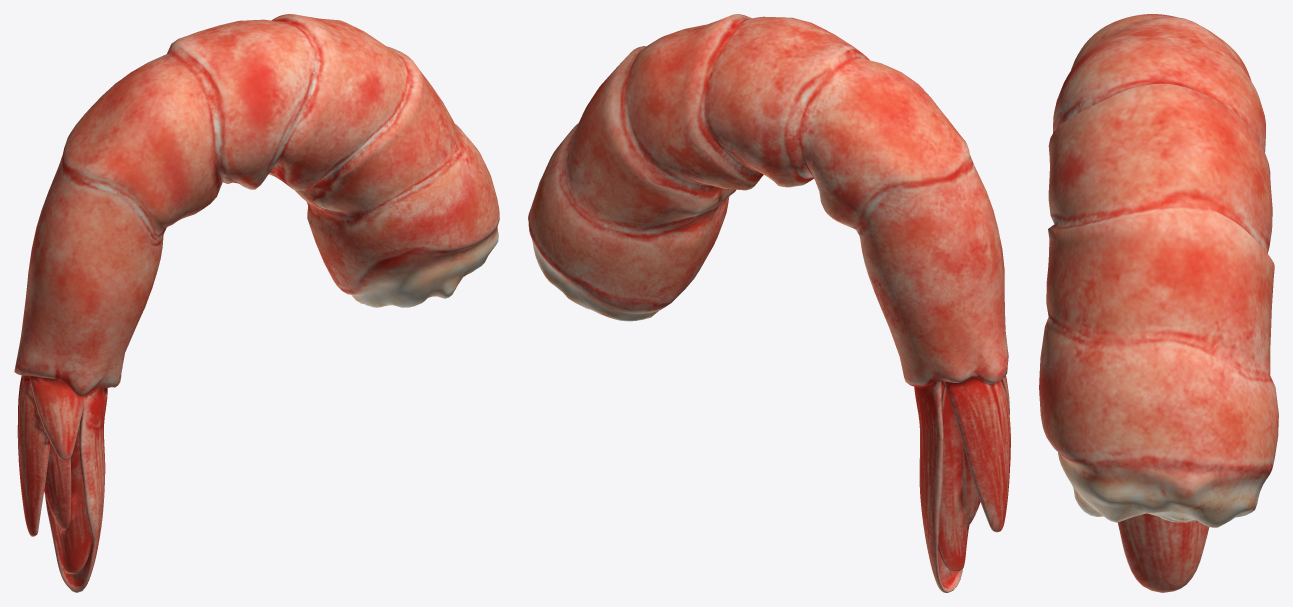
The model's file is shrimp.glb.
3 views of the same model, side by side, from view 1: azimuth 30°, elevation 25°; view 2: azimuth 150°, elevation 25°; view 3: azimuth 270°, elevation 25° (orthographic). The views are drawn at different scales.
Parts seen in each view (by area): view 1: Object.1; view 2: Object.1; view 3: Object.1.
Boxes of the visible parts, x1,y1,x2,y2 form: Object.1: (14,14,499,592); Object.1: (528,14,1010,592); Object.1: (1039,14,1278,592).
Size of the model in its own units: 3.79 by 4.04 by 1.34.
Materials: 1 (1 with a texture image).
